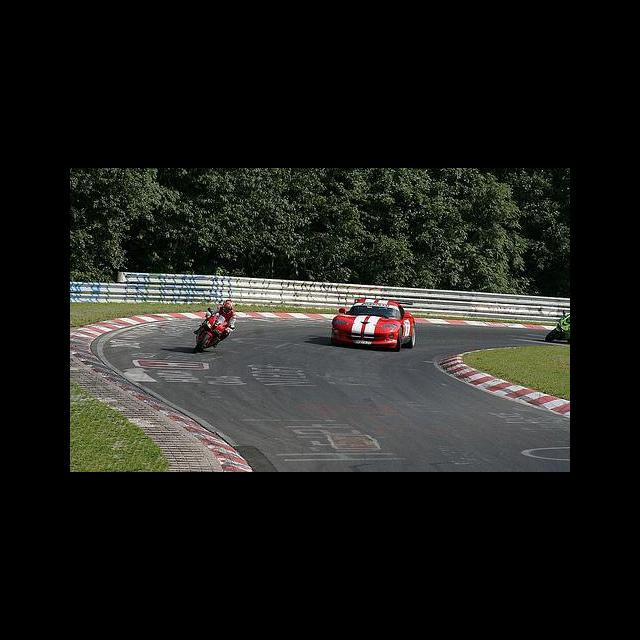Hardhat: (223, 300, 233, 313)
NO-Safety Vest: (219, 309, 235, 323)
Person: (213, 299, 237, 346)
sedan: (330, 296, 417, 352)
